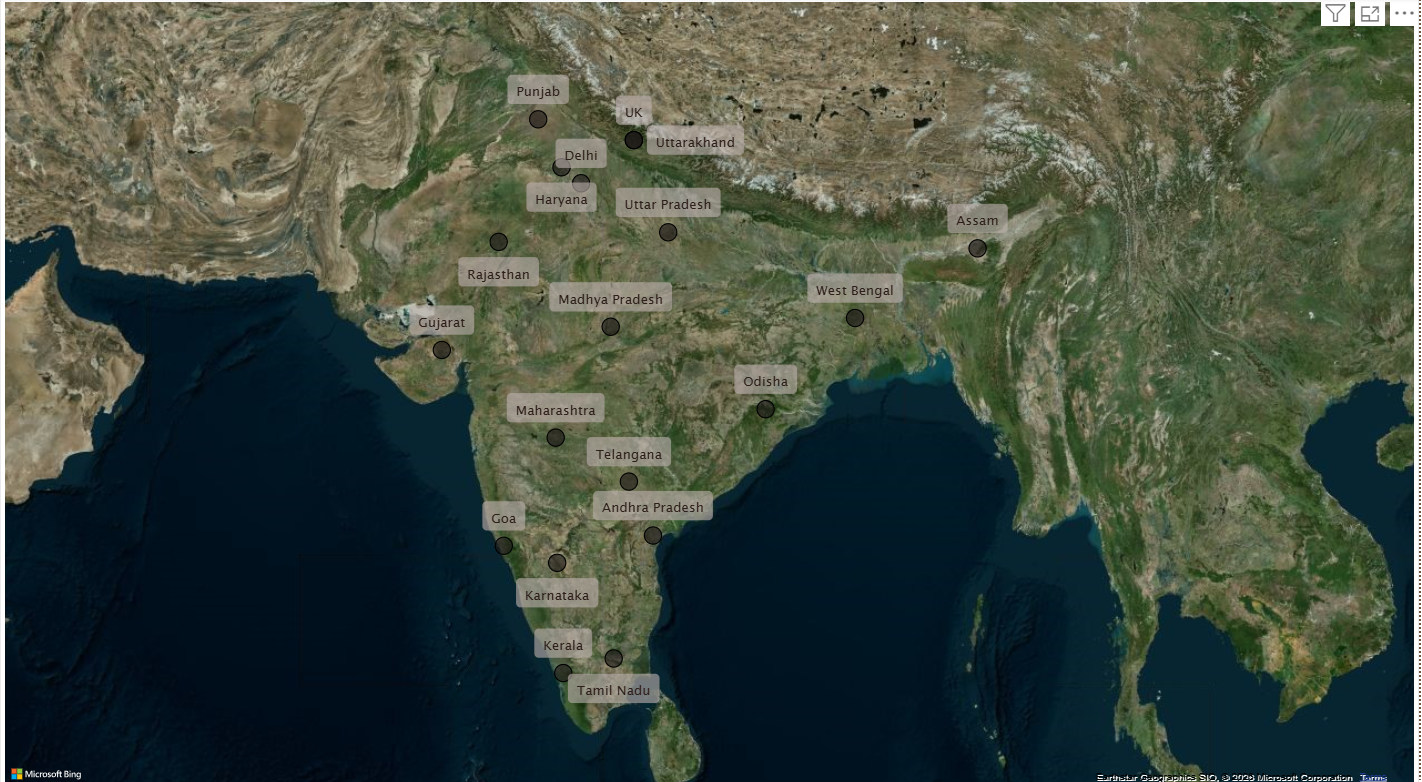

Layout of this report page (visuals, bound fields, positions):
{"tool":"powerbi","page":{"name":"Geo Location","canvas":[1280,720],"ordinal":4},"visuals":[{"type":"map","fields":{"Category":["DimGeography.State"]},"box":[0,0,1280.5,711],"z":0}]}

Visuals, with their boxes in screenshot pixels (x1, y1, x2, y2), scaled from the page's 1280x720 canvas onto the 1422x782 screenshot:
map - DimGeography.State: Rect(0, 0, 1421, 772)
